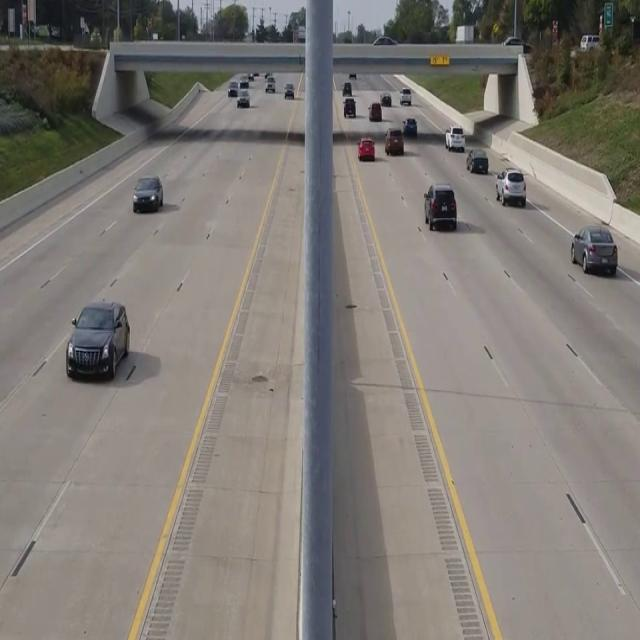car: (66, 300, 129, 380), (571, 224, 618, 275), (423, 184, 457, 230), (495, 167, 526, 206), (132, 176, 163, 213), (444, 126, 464, 150)
